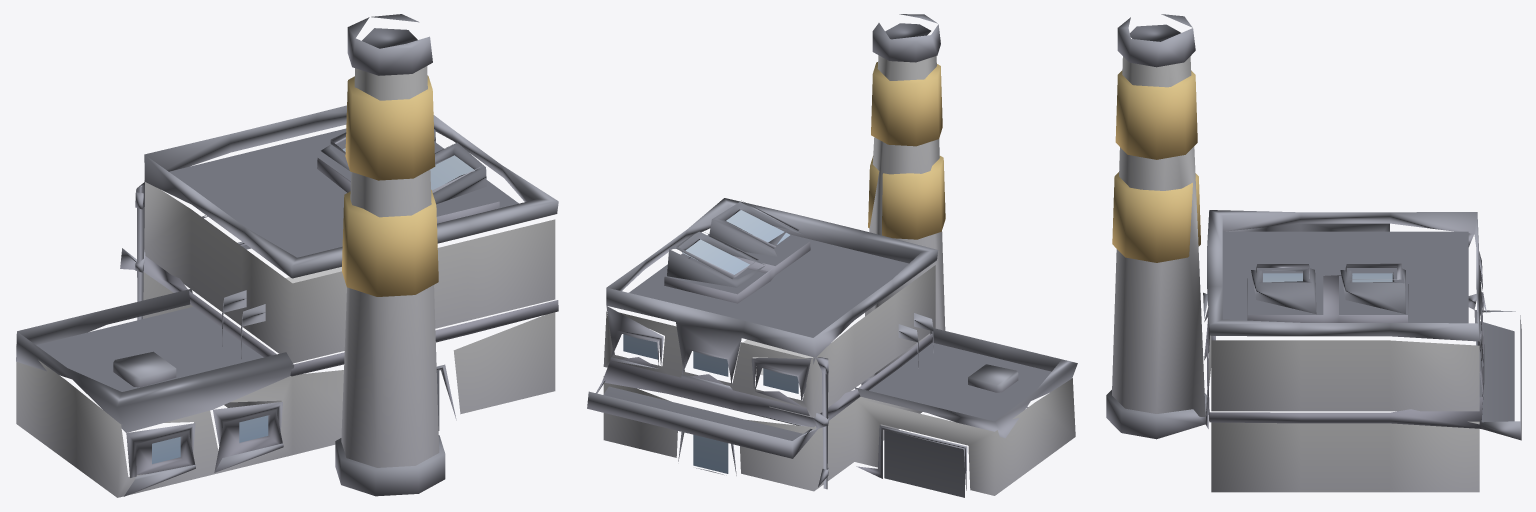
3 renders of one model, left to right at view 1: azimuth 30°, elevation 25°; view 2: azimuth 150°, elevation 25°; view 3: azimuth 270°, elevation 25°, orthographic. The views are drawn at different scales.
Bounding box in the file's own units: 16.41 × 15.4 × 14.86.
